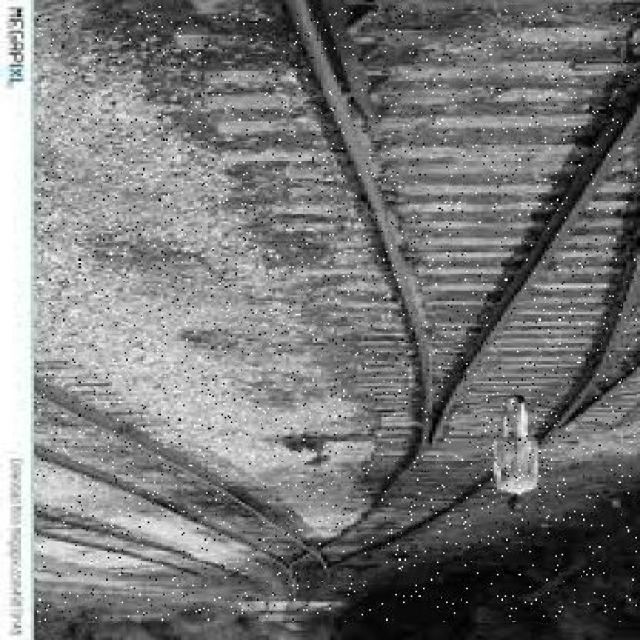rail: (38, 7, 638, 623)
